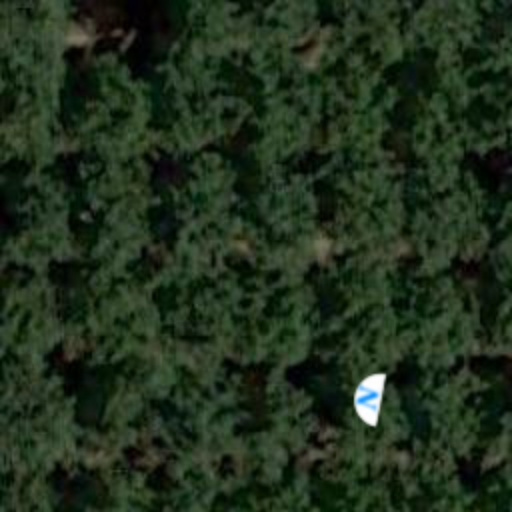semicircle: (336, 366, 400, 430)
